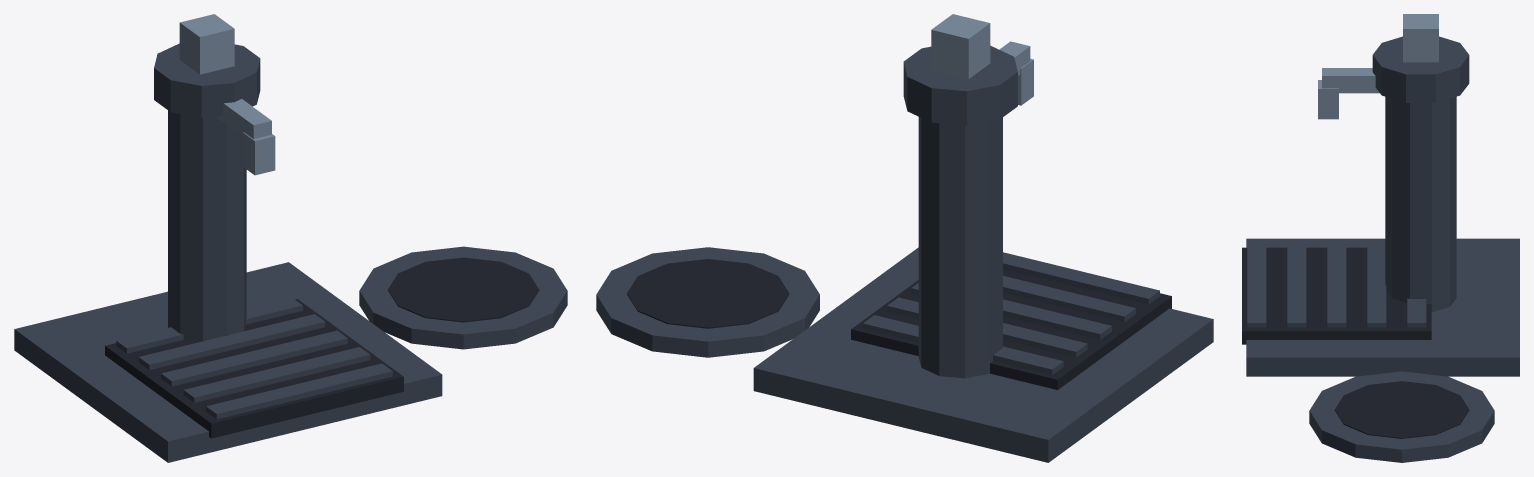
File: cittaFontanella.glb
3 renders of one model, left to right at view 1: azimuth 30°, elevation 25°; view 2: azimuth 150°, elevation 25°; view 3: azimuth 270°, elevation 25°, orthographic. The views are drawn at different scales.
Visible parts, largest first — view 1: cittaFontanella_steelDark, cittaFontanella_black, cittaFontanella_steel; view 2: cittaFontanella_steelDark, cittaFontanella_black, cittaFontanella_steel; view 3: cittaFontanella_steelDark, cittaFontanella_black, cittaFontanella_steel.
Part boxes in pixels (x1=…): cittaFontanella_steelDark: x1=14, y1=43, x2=567, y2=462; cittaFontanella_black: x1=105, y1=257, x2=539, y2=438; cittaFontanella_steel: x1=179, y1=14, x2=275, y2=175; cittaFontanella_steelDark: x1=596, y1=45, x2=1213, y2=462; cittaFontanella_black: x1=627, y1=259, x2=1171, y2=389; cittaFontanella_steel: x1=931, y1=14, x2=1033, y2=105; cittaFontanella_steelDark: x1=1246, y1=36, x2=1519, y2=462; cittaFontanella_black: x1=1242, y1=247, x2=1469, y2=438; cittaFontanella_steel: x1=1318, y1=14, x2=1438, y2=119.
Size of the model in its own units: 2.31 by 1.57 by 1.32.
